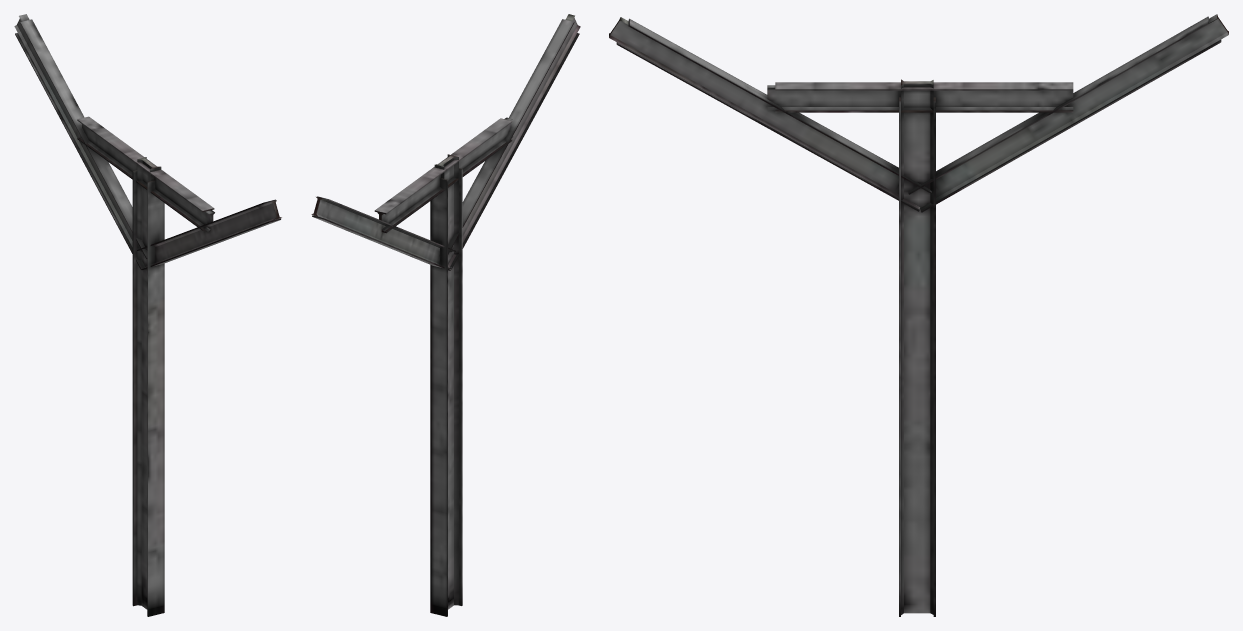
File: poles.fbx
3 views of the same model, side by side, from view 1: azimuth 30°, elevation 25°; view 2: azimuth 150°, elevation 25°; view 3: azimuth 270°, elevation 25° (orthographic). The views are drawn at different scales.
Visible parts, largest first — view 1: poles; view 2: poles; view 3: poles.
Part boxes in pixels (x1,y1,x2,y2): poles: [14, 14, 281, 616]; poles: [311, 14, 580, 616]; poles: [609, 14, 1228, 616].
Size of the model in its own units: 13.35 by 385 by 363.
